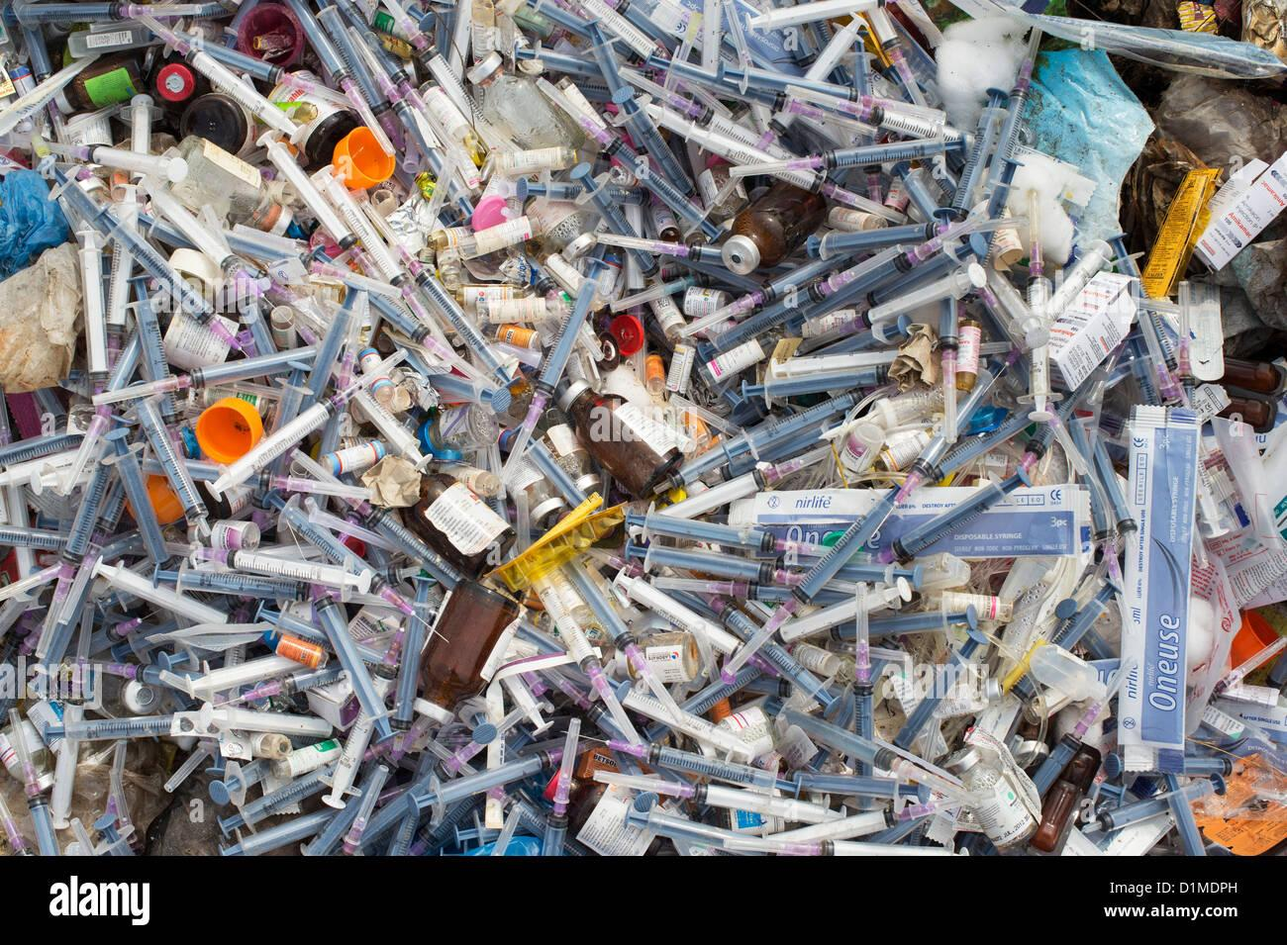Iv_Bottle: (558, 381, 682, 499), (421, 581, 519, 721), (466, 52, 583, 147), (407, 475, 515, 577), (943, 746, 1037, 851), (722, 182, 826, 274), (171, 136, 261, 216), (524, 196, 598, 257), (508, 456, 566, 527), (640, 631, 699, 684), (955, 315, 981, 392)
